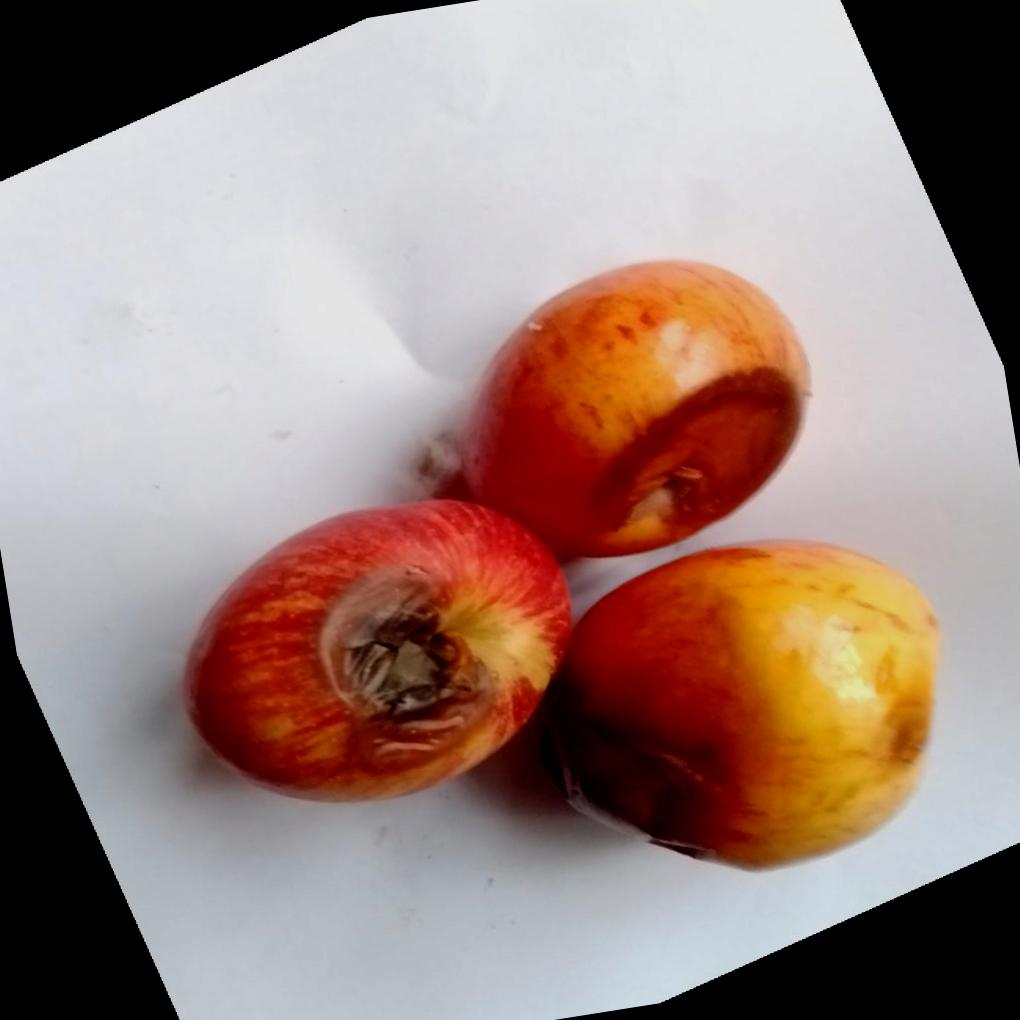FreshOrange: (185, 257, 944, 871)
